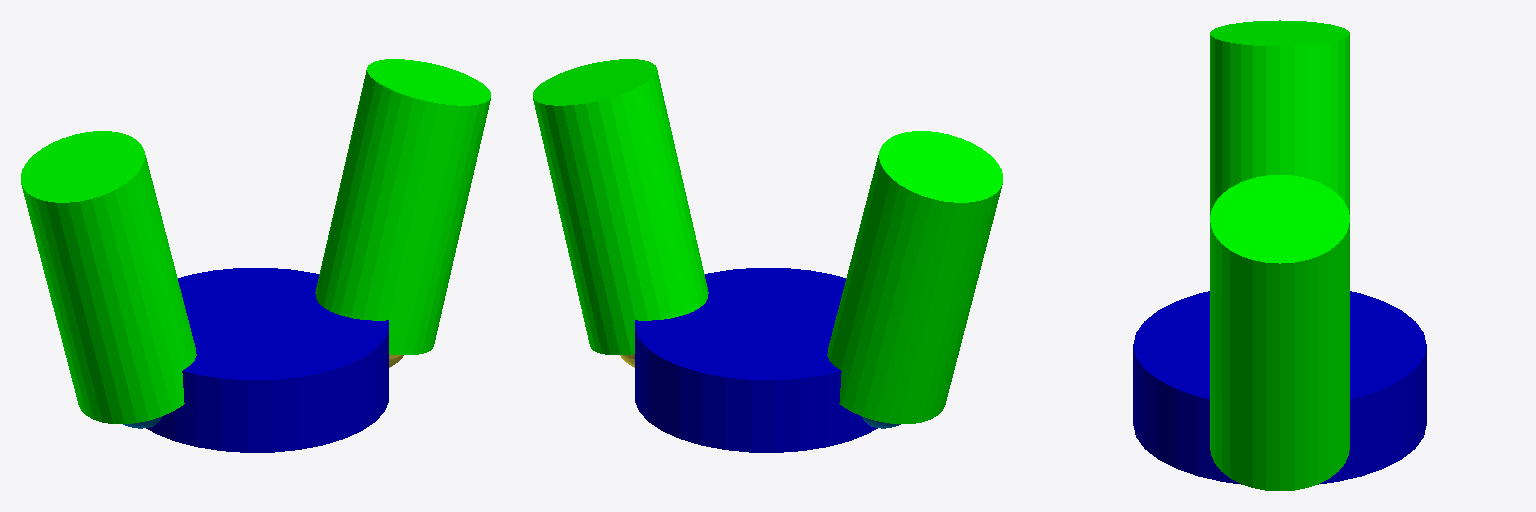
The robot description file, URDF, robot "gripper_2f_1j":
<?xml version='1.0' encoding='UTF-8'?>
<robot name="gripper_2f_1j">
  <link name="palm">
    <inertial>
      <origin xyz="0.0 0.0 0.0" rpy="0.0 -0.0 0.0"/>
      <mass value="1.0"/>
      <inertia ixx="1.0" ixy="0.0" ixz="0.0" iyy="1.0" iyz="0.0" izz="1.0"/>
    </inertial>
    <visual>
      <geometry>
        <cylinder radius="0.05" length="0.03"/>
      </geometry>
      <material name="blue"/>
      <origin xyz="0.0 0.0 0.0" rpy="0.0 -0.0 0.0"/>
    </visual>
    <collision>
      <geometry>
        <cylinder radius="0.05" length="0.03"/>
      </geometry>
      <origin xyz="0.0 0.0 0.0" rpy="0.0 0.0 0.0"/>
    </collision>
  </link>
  <link name="f11">
    <inertial>
      <origin xyz="0.0 0.0 0.0" rpy="0.0 -0.0 0.0"/>
      <mass value="1.0"/>
      <inertia ixx="1.0" ixy="0.0" ixz="0.0" iyy="1.0" iyz="0.0" izz="1.0"/>
    </inertial>
    <visual>
      <geometry>
        <cylinder radius="0.02388657631506166" length="0.10038951792932661"/>
      </geometry>
      <material name="green"/>
      <origin xyz="0.0 0.0 0.05019475896466331" rpy="0.0 -0.0 0.0"/>
    </visual>
    <collision>
      <geometry>
        <cylinder radius="0.02388657631506166" length="0.10038951792932661"/>
      </geometry>
      <origin xyz="0.0 0.0 0.05" rpy="0.0 0.0 0.0"/>
    </collision>
  </link>
  <link name="f21">
    <inertial>
      <origin xyz="0.0 0.0 0.0" rpy="0.0 -0.0 0.0"/>
      <mass value="1.0"/>
      <inertia ixx="1.0" ixy="0.0" ixz="0.0" iyy="1.0" iyz="0.0" izz="1.0"/>
    </inertial>
    <visual>
      <geometry>
        <cylinder radius="0.02388657631506166" length="0.10038951792932661"/>
      </geometry>
      <material name="green"/>
      <origin xyz="0.0 0.0 0.05019475896466331" rpy="0.0 -0.0 0.0"/>
    </visual>
    <collision>
      <geometry>
        <cylinder radius="0.02388657631506166" length="0.10038951792932661"/>
      </geometry>
      <origin xyz="0.0 0.0 0.05" rpy="0.0 0.0 0.0"/>
    </collision>
  </link>
  <link name="f11_base">
    <inertial>
      <origin xyz="0.0 0.0 0.0" rpy="0.0 -0.0 0.0"/>
      <mass value="1.0"/>
      <inertia ixx="1.0" ixy="0.0" ixz="0.0" iyy="1.0" iyz="0.0" izz="1.0"/>
    </inertial>
    <visual>
      <geometry>
        <sphere radius="0.015"/>
      </geometry>
      <origin xyz="0.0 0.0 0.0" rpy="0.0 -0.0 0.0"/>
    </visual>
  </link>
  <link name="f21_base">
    <inertial>
      <origin xyz="0.0 0.0 0.0" rpy="0.0 -0.0 0.0"/>
      <mass value="1.0"/>
      <inertia ixx="1.0" ixy="0.0" ixz="0.0" iyy="1.0" iyz="0.0" izz="1.0"/>
    </inertial>
    <visual>
      <geometry>
        <sphere radius="0.015"/>
      </geometry>
      <origin xyz="0.0 0.0 0.0" rpy="0.0 -0.0 0.0"/>
    </visual>
  </link>
  <joint name="f11_joint" type="revolute">
    <dynamics damping="100.0" friction="1.0"/>
    <limit effort="30.0" velocity="2.0" lower="-0.6" upper="0.25"/>
    <parent link="f11_base"/>
    <child link="f11"/>
    <axis xyz="0. 1. 0."/>
    <origin xyz="0.0 0.0 0.0" rpy="0.0 0.25 0.0"/>
  </joint>
  <joint name="f21_joint" type="revolute">
    <dynamics damping="100.0" friction="1.0"/>
    <limit effort="30.0" velocity="2.0" lower="-0.6" upper="0.25"/>
    <parent link="f21_base"/>
    <child link="f21"/>
    <axis xyz=" 0. -1.  0."/>
    <origin xyz="0.0 0.0 0.0" rpy="0.0 -0.25 0.0"/>
  </joint>
  <joint name="f11_base_joint" type="fixed">
    <parent link="palm"/>
    <child link="f11_base"/>
    <axis xyz="1. 0. 0."/>
    <origin xyz="0.05 0.0 0.0" rpy="0.0 0.0 0.0"/>
  </joint>
  <joint name="f21_base_joint" type="fixed">
    <parent link="palm"/>
    <child link="f21_base"/>
    <axis xyz="1. 0. 0."/>
    <origin xyz="-0.05 -0.0 0.0" rpy="0.0 0.0 0.0"/>
  </joint>
  <material name="blue">
    <color rgba="0.  0.  0.8 1. "/>
  </material>
  <material name="green">
    <color rgba="0. 1. 0. 1."/>
  </material>
</robot>

--- What the picture shows (computed from the rendered views, not written in the file) ---
The picture shows the robot from 3 angles, left to right: view 1: azimuth 30°, elevation 25°; view 2: azimuth 150°, elevation 25°; view 3: azimuth 270°, elevation 25°; orthographic projection.
Robot: gripper_2f_1j — 5 links, 4 joints (2 revolute, 2 fixed); root link palm; default pose: all joints at 0.
Visible links, largest first — view 1: f21, f11, palm; view 2: f21, f11, palm; view 3: f11, palm, f21.
Link boxes in pixels (<box>): f21: <box>21,131,196,423</box>; f11: <box>315,59,490,354</box>; palm: <box>146,268,388,452</box>; f21: <box>827,131,1002,423</box>; f11: <box>533,59,708,354</box>; palm: <box>635,268,877,452</box>; f11: <box>1210,175,1349,490</box>; palm: <box>1133,291,1426,484</box>; f21: <box>1210,20,1349,214</box>.
Bounding box of the posed robot: 0.196 × 0.1 × 0.1182 m (x, y, z).
Geometry: primitives only (box / cylinder / sphere), no mesh files.